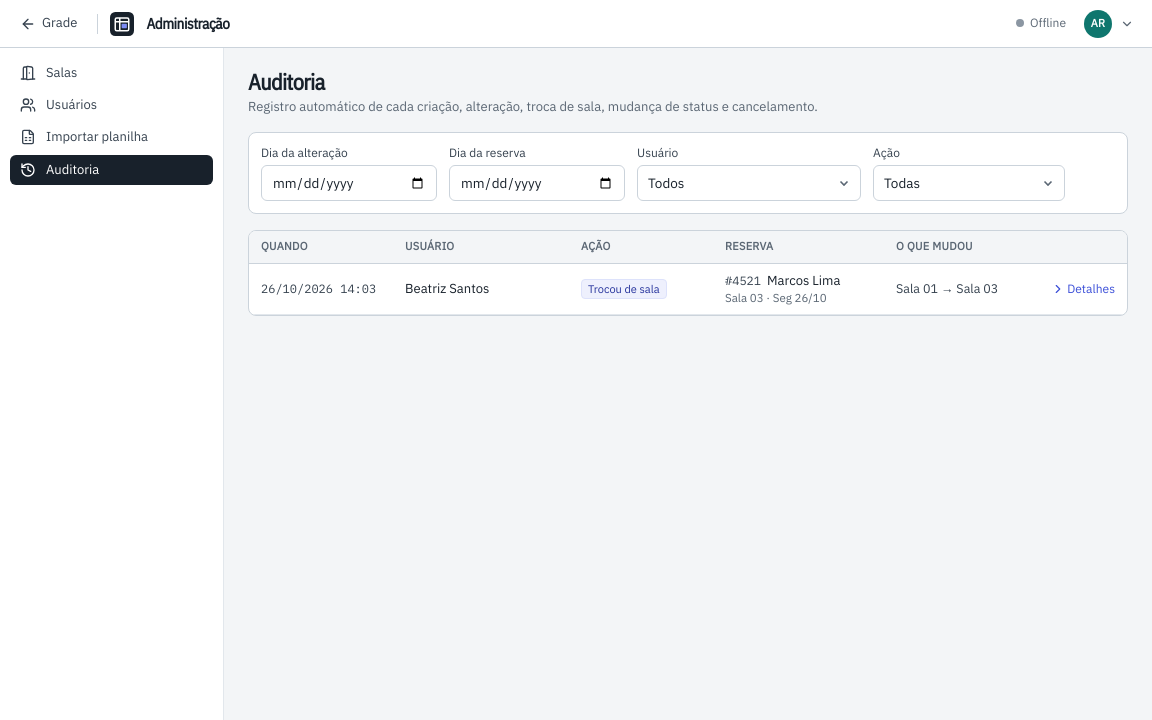
administração › auditoria filtra por ação e mostra o diff legível
Later steps or results of the test are not shown.
Expected: the text "Trocou de sala" is shown, [588,281,660,297]
Expected: the text "Sala 01 → Sala 03" is shown, [896,280,998,298]
Step 1. Click the button "Detalhes" → (1083,289), box [1051,281,1115,297]
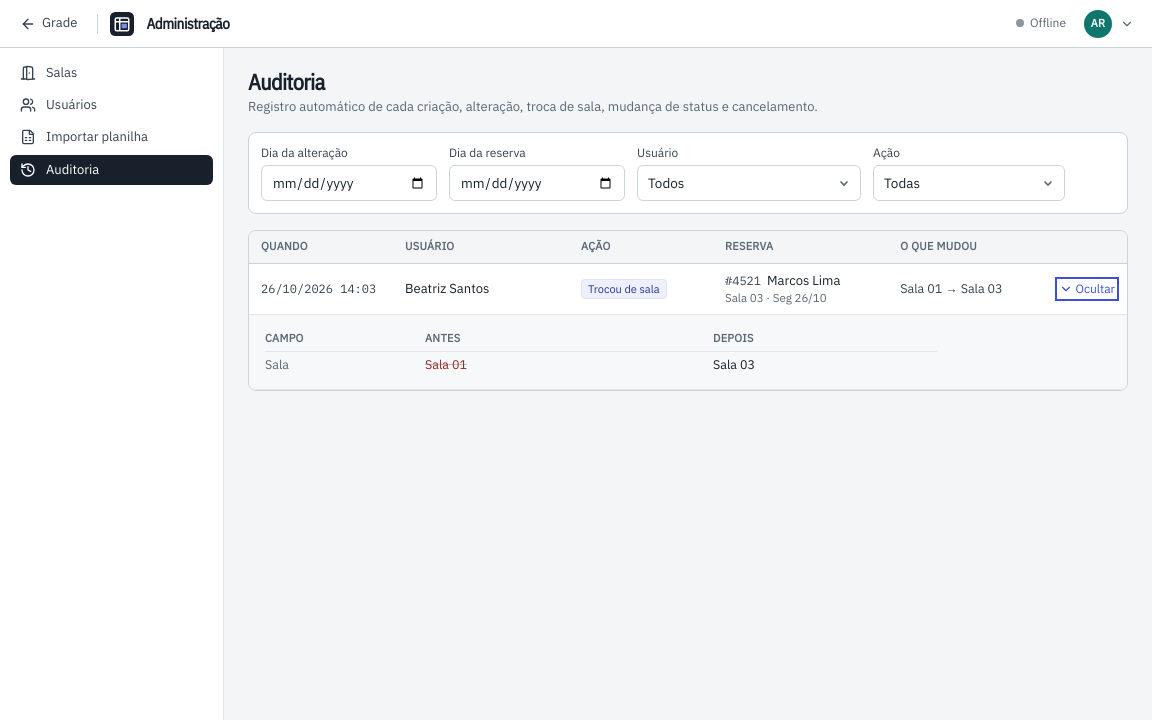
Expected: the column heading "Antes" is shown, [425,327,713,351]
